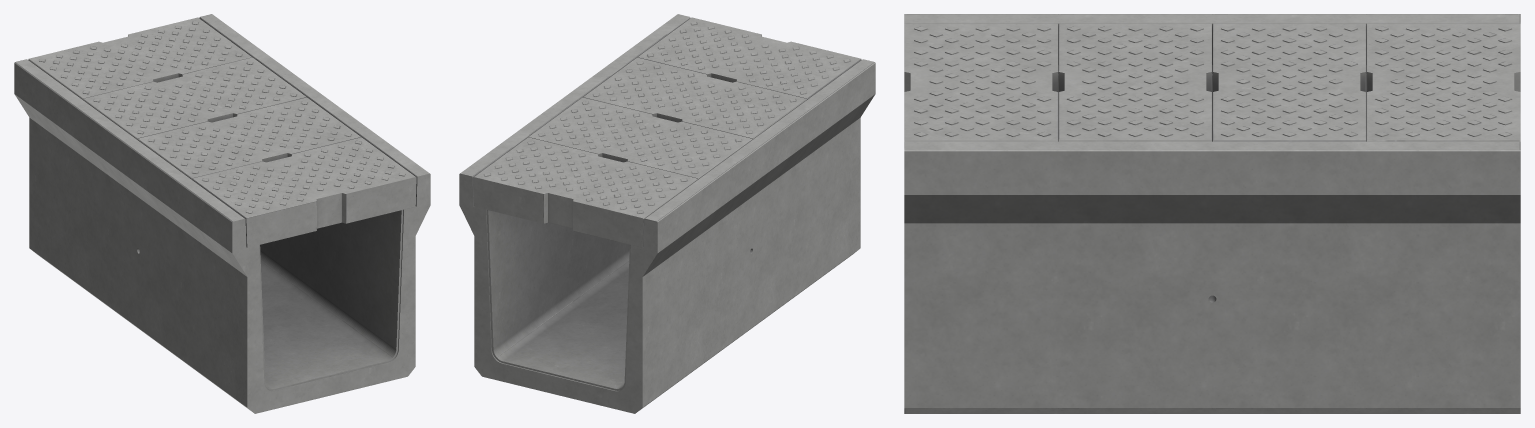
3 renders of one model, left to right at view 1: azimuth 30°, elevation 25°; view 2: azimuth 150°, elevation 25°; view 3: azimuth 270°, elevation 25°, orthographic. The views are drawn at different scales.
Visible parts, largest first — view 1: Object001; view 2: Object001; view 3: Object001.
Part boxes in pixels (x1,y1,x2,y2): Object001: (14, 14, 430, 413); Object001: (459, 14, 875, 413); Object001: (904, 14, 1520, 413).
Size of the model in its own units: 0.8572 by 0.8184 by 1.63.
1 material, 1 textured.
